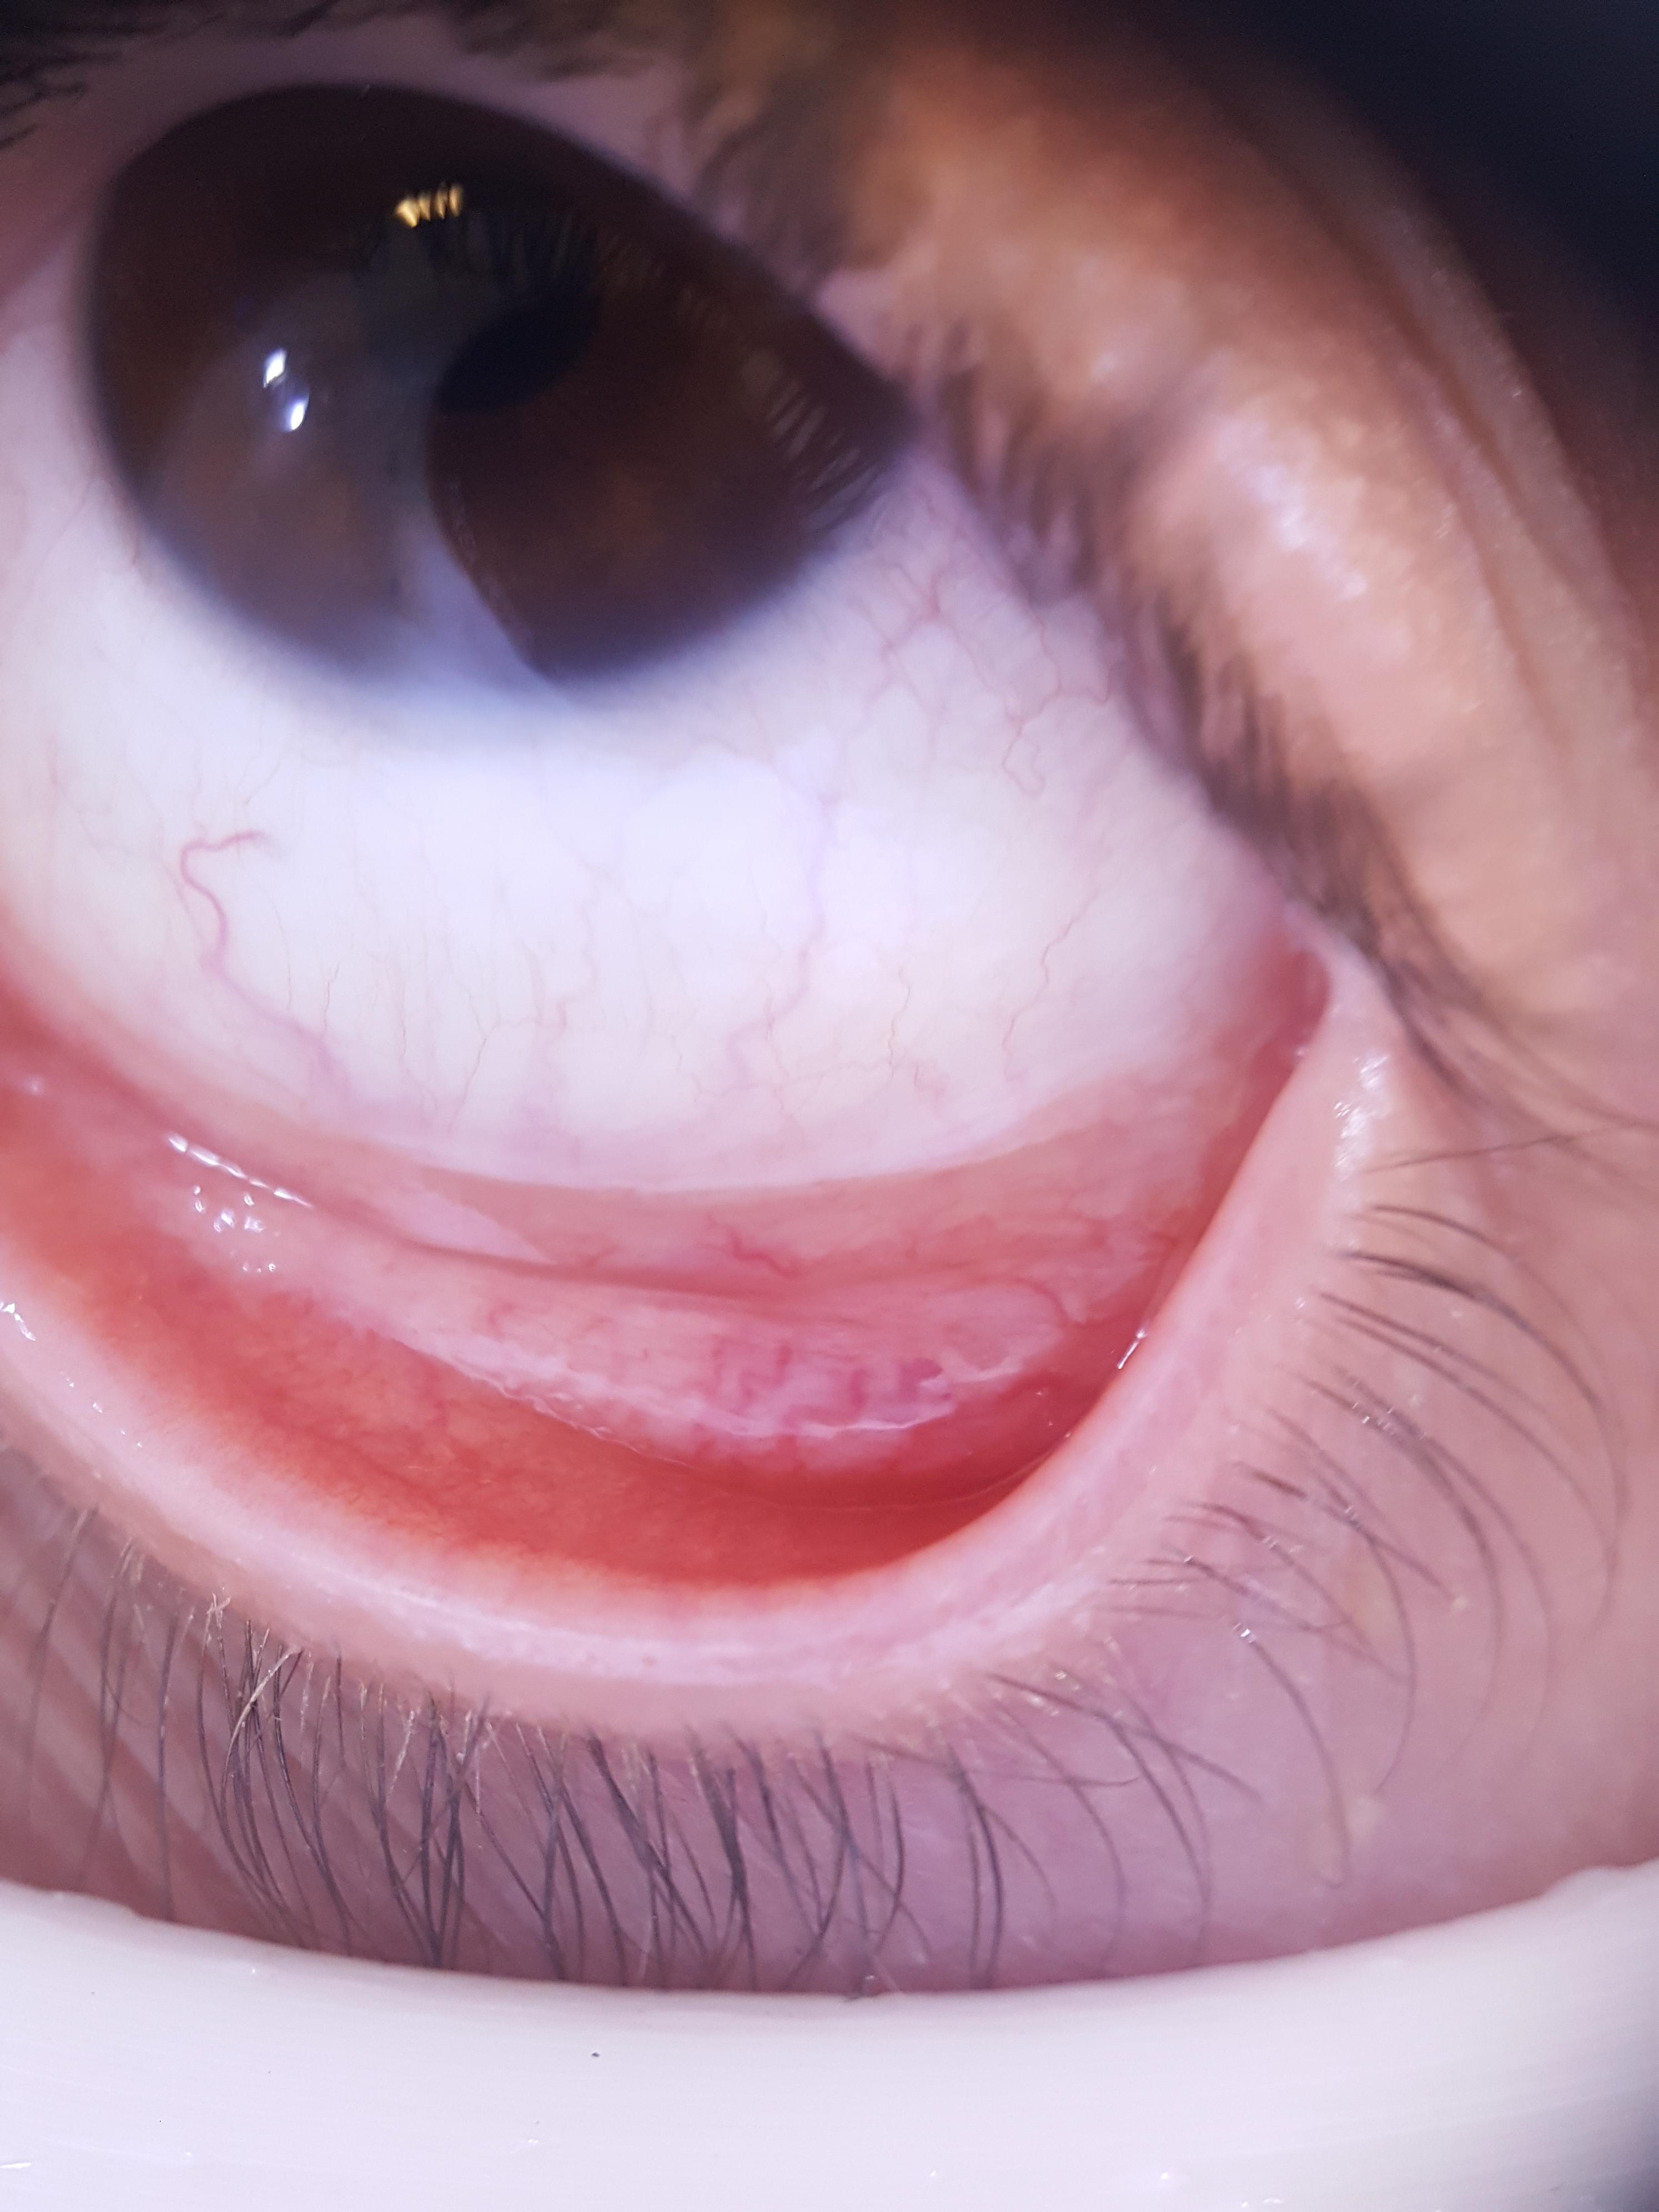forniceal: (12, 1001, 1229, 1460)
forniceal_palpebral: (3, 982, 1246, 1592)
palpebral: (16, 1087, 1237, 1578)
